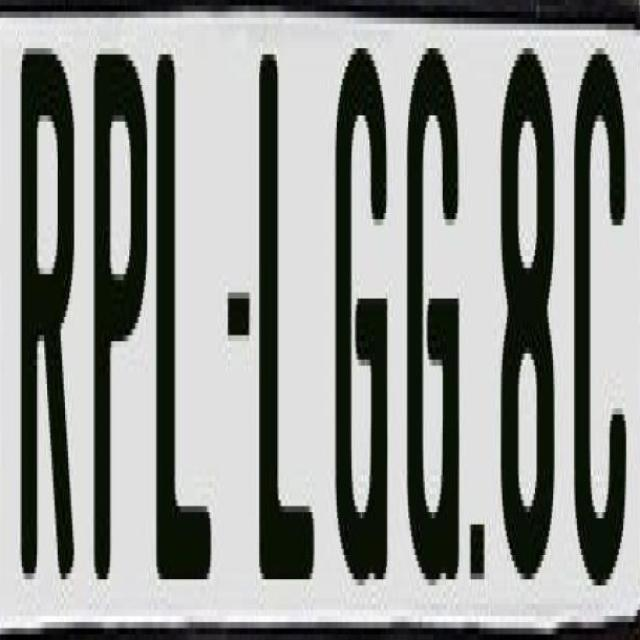license-plate: (10, 30, 640, 640)
